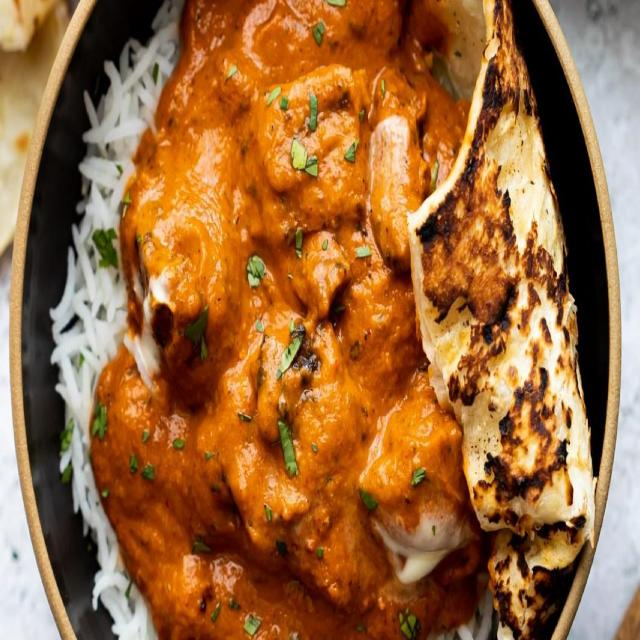Butter Chicken: (101, 25, 415, 640)
